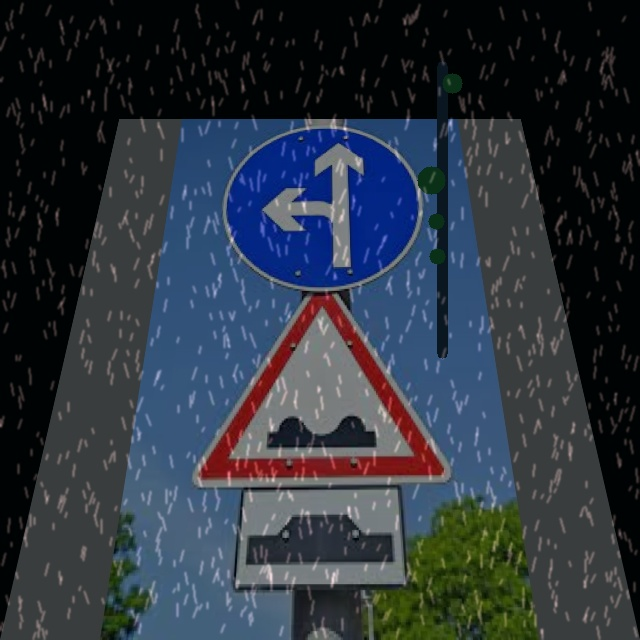Compulsory_Ahead_or_Turn_Left: (207, 128, 443, 292)
